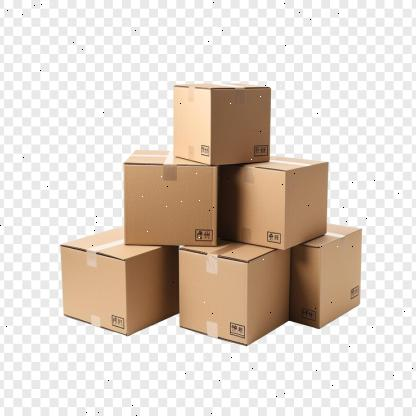box: (123, 163, 217, 247), (179, 248, 248, 346), (61, 244, 126, 335), (210, 87, 273, 164), (320, 227, 362, 328), (285, 162, 328, 250)
